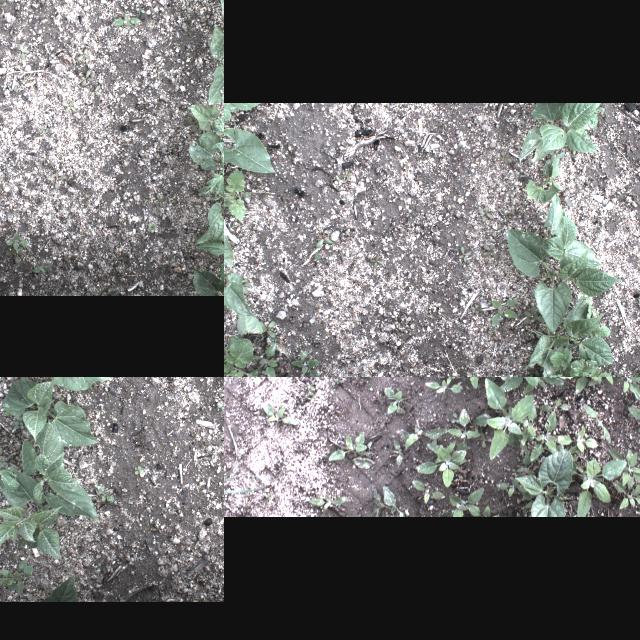crop: (506, 192, 622, 334), (22, 418, 100, 522), (523, 289, 613, 377), (2, 377, 99, 445), (0, 466, 64, 559), (519, 102, 599, 162), (224, 218, 263, 335), (513, 450, 573, 516), (188, 140, 224, 207), (193, 178, 224, 245), (186, 104, 224, 157), (196, 226, 224, 295), (526, 161, 562, 203), (1, 377, 109, 390), (38, 573, 78, 601), (208, 36, 224, 104), (192, 266, 224, 295), (210, 0, 224, 58), (224, 102, 262, 110)
weed: (224, 425, 286, 516), (474, 378, 534, 458), (560, 458, 628, 516), (224, 106, 277, 171), (532, 347, 615, 377), (428, 410, 482, 456), (415, 439, 465, 486), (224, 333, 263, 377), (0, 415, 20, 491), (530, 411, 558, 461), (608, 448, 640, 490), (442, 487, 484, 517), (224, 170, 250, 218), (552, 426, 598, 452), (372, 486, 408, 516), (329, 432, 367, 460), (0, 561, 33, 593), (584, 403, 610, 442), (494, 377, 563, 391), (290, 349, 321, 377), (491, 298, 519, 328), (262, 402, 300, 424), (613, 478, 640, 508), (412, 481, 446, 504), (426, 380, 464, 400), (257, 341, 277, 377), (522, 404, 536, 451), (385, 386, 405, 416), (308, 494, 348, 508), (354, 440, 374, 468), (496, 477, 520, 497), (628, 403, 640, 443), (518, 485, 538, 509), (575, 377, 603, 393), (523, 305, 545, 325), (402, 427, 424, 445), (622, 377, 640, 399), (112, 14, 140, 28), (540, 398, 570, 410), (6, 233, 28, 249), (516, 451, 532, 473), (454, 377, 480, 390), (258, 320, 276, 338), (316, 230, 334, 248), (96, 484, 114, 502), (545, 150, 565, 166), (467, 506, 498, 516), (478, 206, 496, 222), (590, 324, 610, 338), (393, 438, 403, 466), (5, 249, 22, 263), (561, 187, 573, 206), (482, 244, 498, 258), (436, 377, 466, 384), (82, 70, 95, 86), (238, 278, 252, 292), (60, 100, 76, 112), (458, 246, 470, 262), (370, 254, 386, 266), (16, 44, 29, 58), (77, 48, 91, 61), (32, 264, 52, 272), (268, 334, 278, 348), (470, 304, 484, 314), (500, 150, 510, 163), (344, 230, 356, 240), (593, 102, 605, 112), (305, 384, 315, 396), (330, 404, 342, 414), (147, 222, 157, 232), (488, 330, 498, 340), (518, 175, 528, 185), (226, 234, 234, 246), (336, 174, 346, 182), (342, 170, 350, 180), (136, 466, 144, 474), (603, 377, 612, 384), (352, 262, 358, 272), (314, 251, 320, 259), (332, 379, 338, 385)
